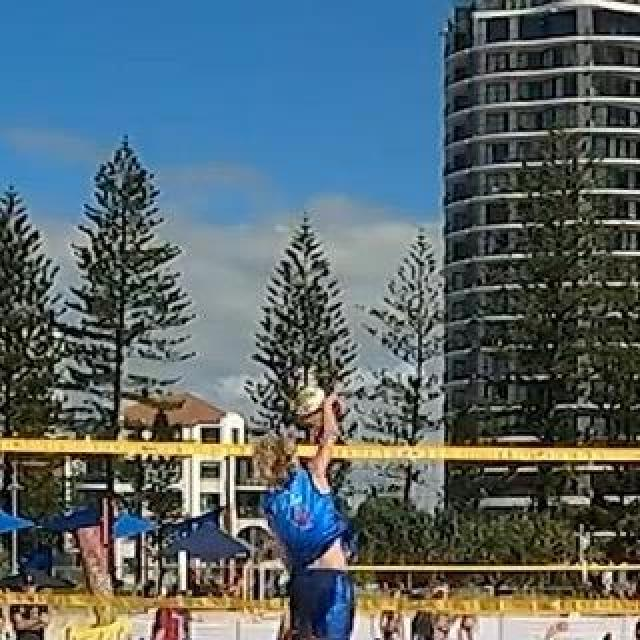volleyball: (294, 385, 334, 427)
